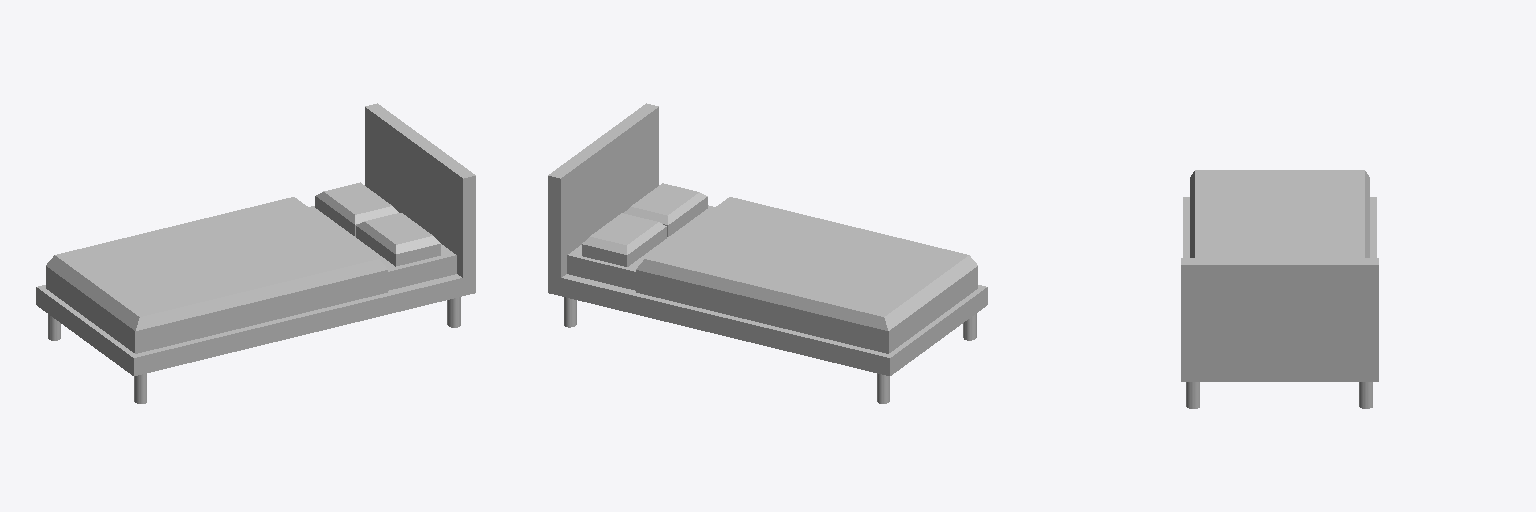
Rendered from Bed.obj.
3 renders of one model, left to right at view 1: azimuth 30°, elevation 25°; view 2: azimuth 150°, elevation 25°; view 3: azimuth 270°, elevation 25°, orthographic.
Parts seen in each view (by area): view 1: Bed_Cube; view 2: Bed_Cube; view 3: Bed_Cube.
Boxes of the visible parts, box(x1,y1,x2,y2) form: Bed_Cube: box(36, 103, 475, 403); Bed_Cube: box(548, 103, 987, 403); Bed_Cube: box(1181, 170, 1378, 408).
Bounding box in the file's own units: 6.08 × 2.55 × 3.04.